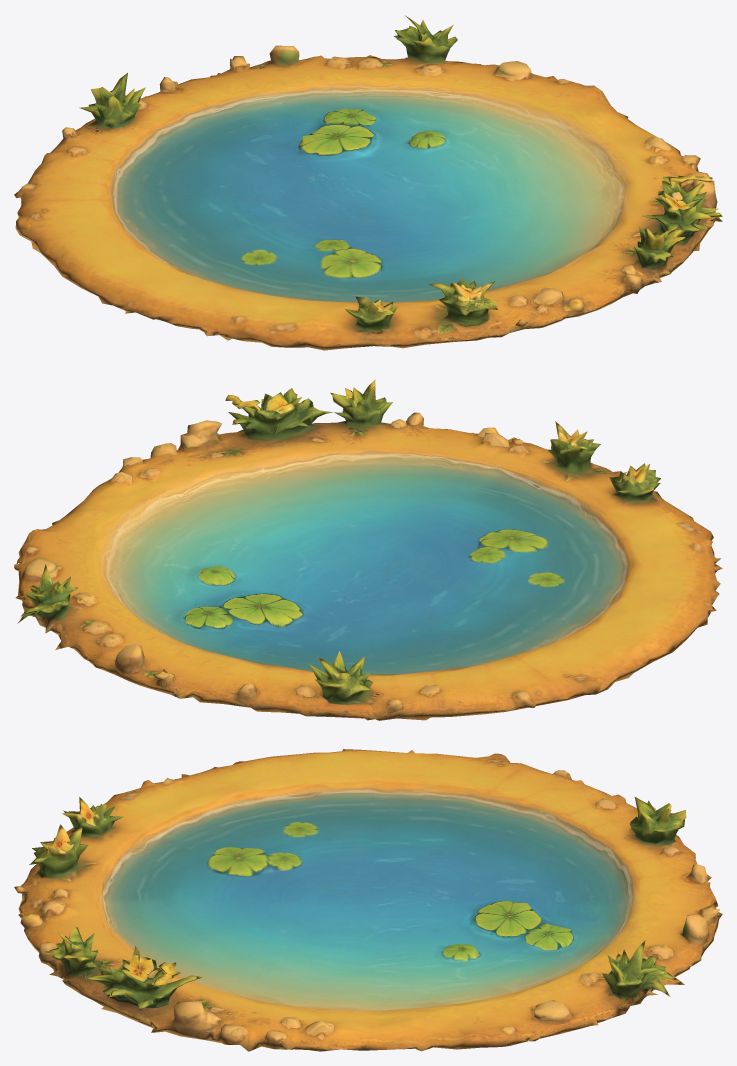
File: Pond.fbx
3 views of the same model, one above another, from view 1: azimuth 30°, elevation 25°; view 2: azimuth 150°, elevation 25°; view 3: azimuth 270°, elevation 25° (orthographic). The views are drawn at different scales.
Parts seen in each view (by area): view 1: tripo_node_c826a16d; view 2: tripo_node_c826a16d; view 3: tripo_node_c826a16d.
Boxes of the visible parts, x1,y1,x2,y2 form: tripo_node_c826a16d: [14, 15, 722, 350]; tripo_node_c826a16d: [14, 379, 722, 720]; tripo_node_c826a16d: [14, 749, 722, 1051].
Size of the model in its own units: 0.9464 by 0.0799 by 0.9521.
